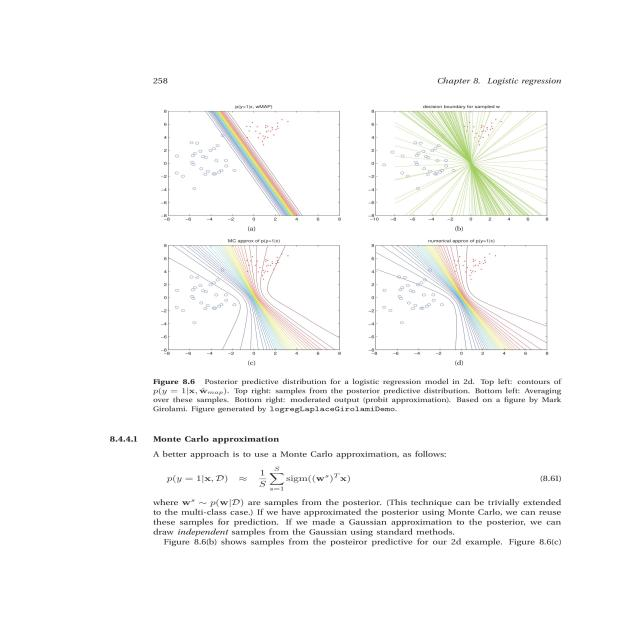diagram: (109, 93, 600, 424)
